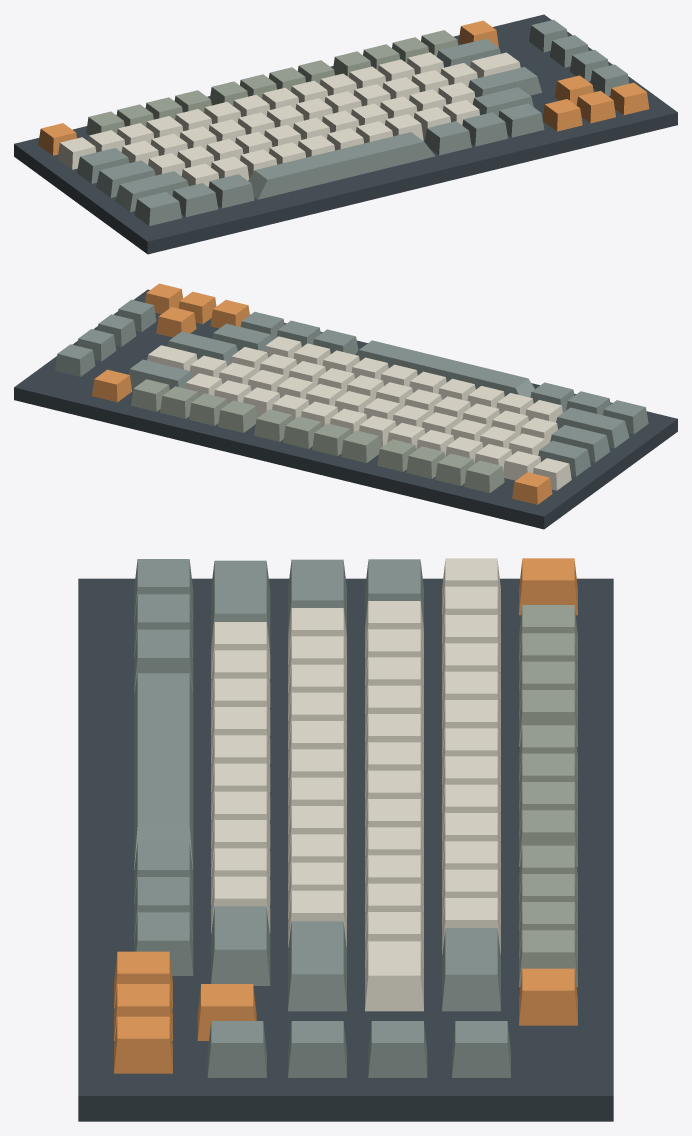
The model's file is adaptive_keyboard.glb.
3 renders of one model, top to bottom at view 1: azimuth 30°, elevation 25°; view 2: azimuth 150°, elevation 25°; view 3: azimuth 270°, elevation 25°, orthographic. The views are drawn at different scales.
Parts seen in each view (by area): view 1: keyboard:case, key:space, key:left_shift, key:enter, key:left_control, key:right_alt, key:caps_lock, key:left_meta, key:right_control, key:left_alt, key:function_layer, key:backspace (+71 smaller); view 2: keyboard:case, key:space, key:left_shift, key:enter, key:backspace, key:caps_lock, key:tab, key:right_shift, key:f1, key:escape, key:delete_top_right, key:home (+71 smaller); view 3: keyboard:case, key:space, key:enter, key:backspace, key:right_shift, key:backslash, key:left_shift, key:delete_top_right, key:arrow_right, key:end, key:page_down, key:home (+71 smaller).
Part boxes in pixels (box(x1,y1,x2,y2)): keyboard:case: box(14, 14, 677, 254); key:space: box(248, 132, 435, 199); key:left_shift: box(115, 171, 188, 211); key:enter: box(468, 67, 541, 97); key:left_control: box(134, 192, 181, 226); key:right_alt: box(424, 121, 471, 155); key:caps_lock: box(96, 160, 155, 197); key:left_meta: box(172, 183, 218, 217); key:right_control: box(498, 103, 544, 137); key:left_alt: box(208, 174, 254, 208); key:function_layer: box(462, 112, 507, 146); key:backspace: box(437, 38, 500, 67); keyboard:case: box(14, 289, 677, 529); key:space: box(355, 340, 534, 397); key:left_shift: box(556, 407, 629, 448); key:enter: box(167, 331, 237, 366); key:backspace: box(128, 359, 192, 389); key:caps_lock: box(550, 425, 610, 462); key:tab: box(538, 440, 590, 476); key:right_shift: box(212, 323, 271, 351); key:f1: box(464, 460, 504, 493); key:escape: box(512, 472, 552, 504); key:delete_top_right: box(92, 369, 132, 402); key:home: box(55, 344, 95, 376); keyboard:case: box(78, 578, 613, 1121); key:space: box(134, 673, 193, 869); key:enter: box(288, 921, 346, 1011); key:backspace: box(442, 928, 500, 1011); key:right_shift: box(211, 906, 270, 985); key:backslash: box(365, 941, 423, 1011); key:left_shift: box(211, 560, 270, 650); key:delete_top_right: box(519, 968, 577, 1025); key:arrow_right: box(114, 1016, 172, 1073); key:end: box(368, 1021, 427, 1077); key:page_down: box(207, 1021, 266, 1077); key:home: box(452, 1021, 510, 1077).
Bounding box in the file's own units: 0.3485 × 0.0195 × 0.1523.
